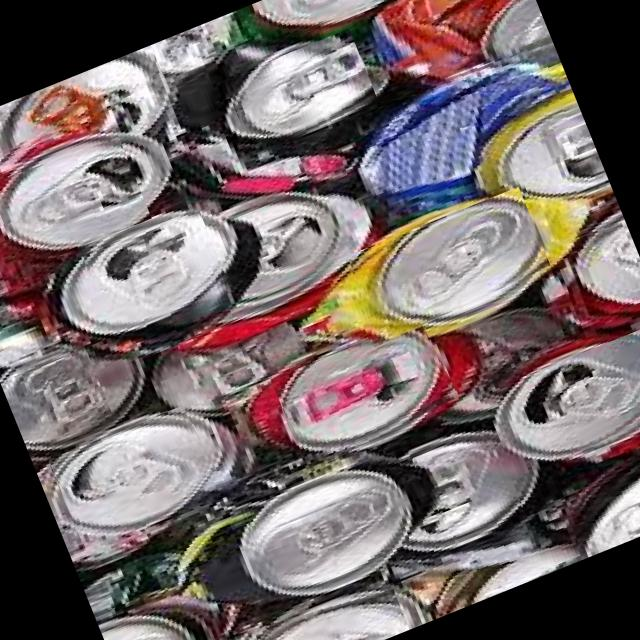Cans: (383, 32, 595, 214), (338, 185, 553, 346), (48, 400, 236, 566), (270, 315, 463, 471), (235, 443, 421, 604), (74, 207, 235, 351), (0, 130, 151, 282), (220, 27, 380, 158), (0, 43, 169, 162), (391, 405, 526, 553), (176, 292, 327, 410), (516, 324, 640, 466), (442, 506, 582, 602), (375, 0, 544, 76), (227, 571, 409, 640), (2, 347, 114, 451), (538, 215, 640, 328), (560, 418, 640, 545), (239, 0, 428, 52), (97, 576, 233, 640)
